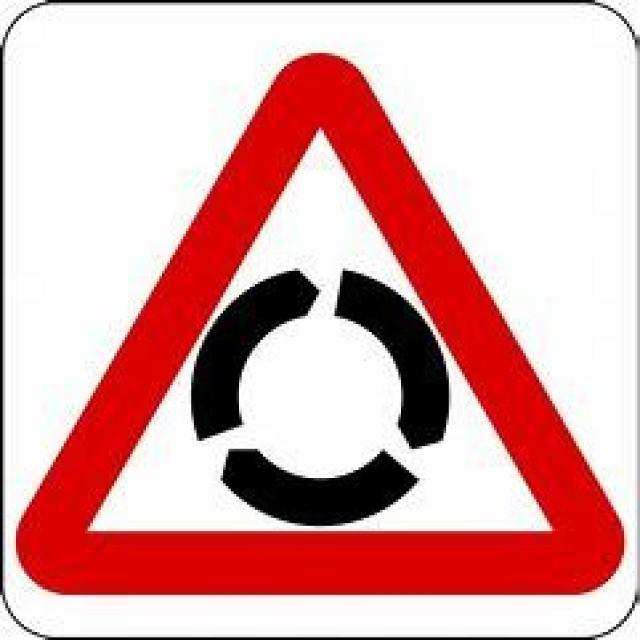roundabout: (27, 44, 607, 602)
